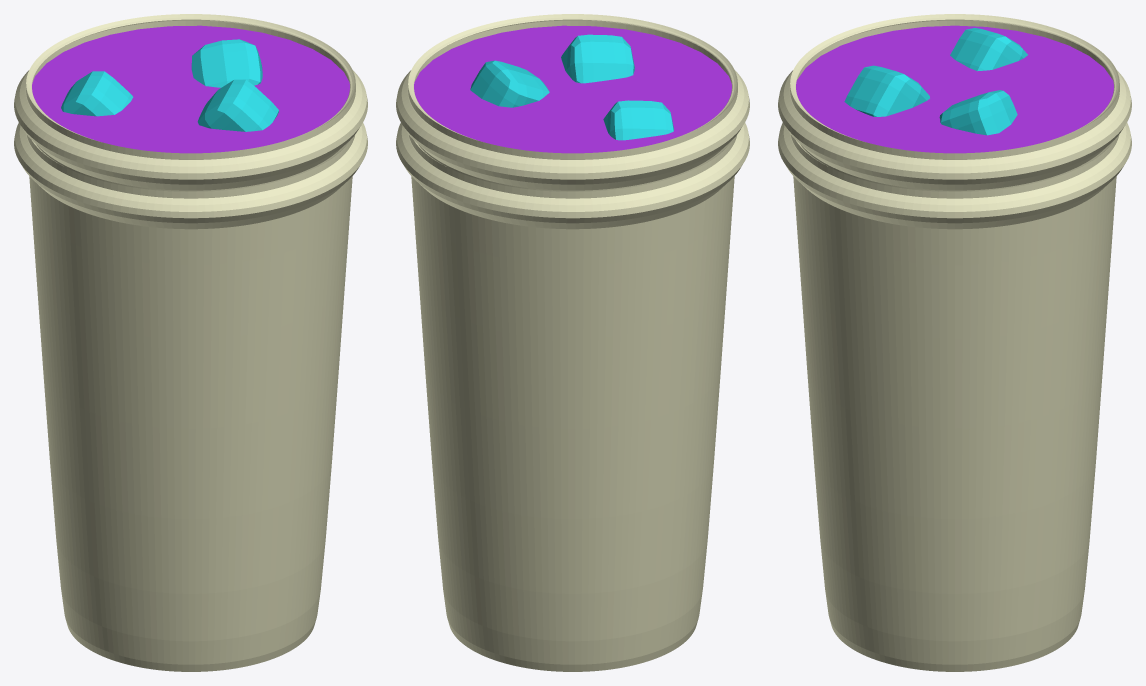
Rendered from codeine.fbx.
3 views of the same model, side by side, from view 1: azimuth 30°, elevation 25°; view 2: azimuth 150°, elevation 25°; view 3: azimuth 270°, elevation 25° (orthographic).
Parts seen in each view (by area): view 1: Cylinder.001, Cylinder.002, Cylinder, Cube.002; view 2: Cylinder.001, Cylinder.002, Cylinder, Cube.002; view 3: Cylinder.001, Cylinder.002, Cylinder, Cube.002.
Boxes of the visible parts, x1=… form: Cylinder.001: x1=14, y1=122, x2=367, y2=671; Cylinder.002: x1=32, y1=25, x2=349, y2=153; Cylinder: x1=14, y1=14, x2=367, y2=191; Cube.002: x1=61, y1=39, x2=278, y2=131; Cylinder.001: x1=396, y1=122, x2=749, y2=671; Cylinder.002: x1=414, y1=25, x2=731, y2=153; Cylinder: x1=396, y1=14, x2=749, y2=191; Cube.002: x1=470, y1=34, x2=673, y2=140; Cylinder.001: x1=778, y1=122, x2=1131, y2=671; Cylinder.002: x1=796, y1=25, x2=1113, y2=153; Cylinder: x1=778, y1=14, x2=1131, y2=191; Cube.002: x1=844, y1=28, x2=1027, y2=135.
Size of the model in its own units: 148 by 256 by 148.
